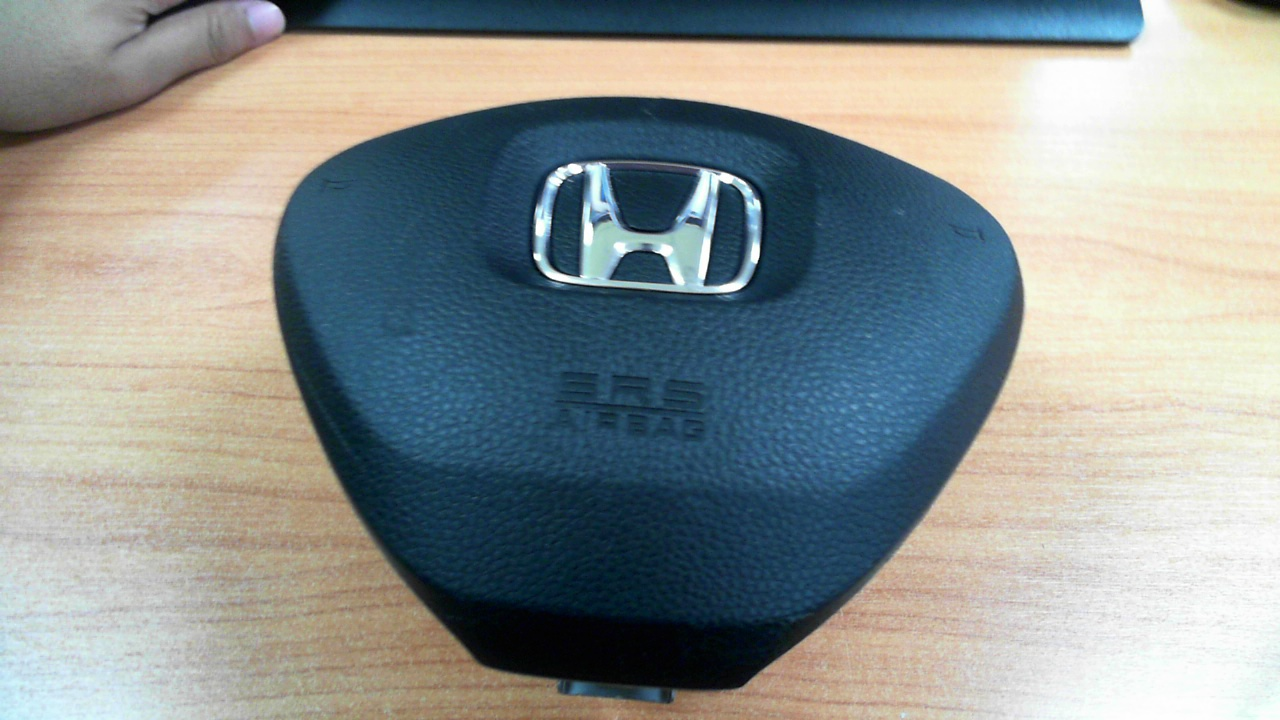Airbag: (270, 94, 1025, 705)
Honda: (532, 161, 763, 294)
